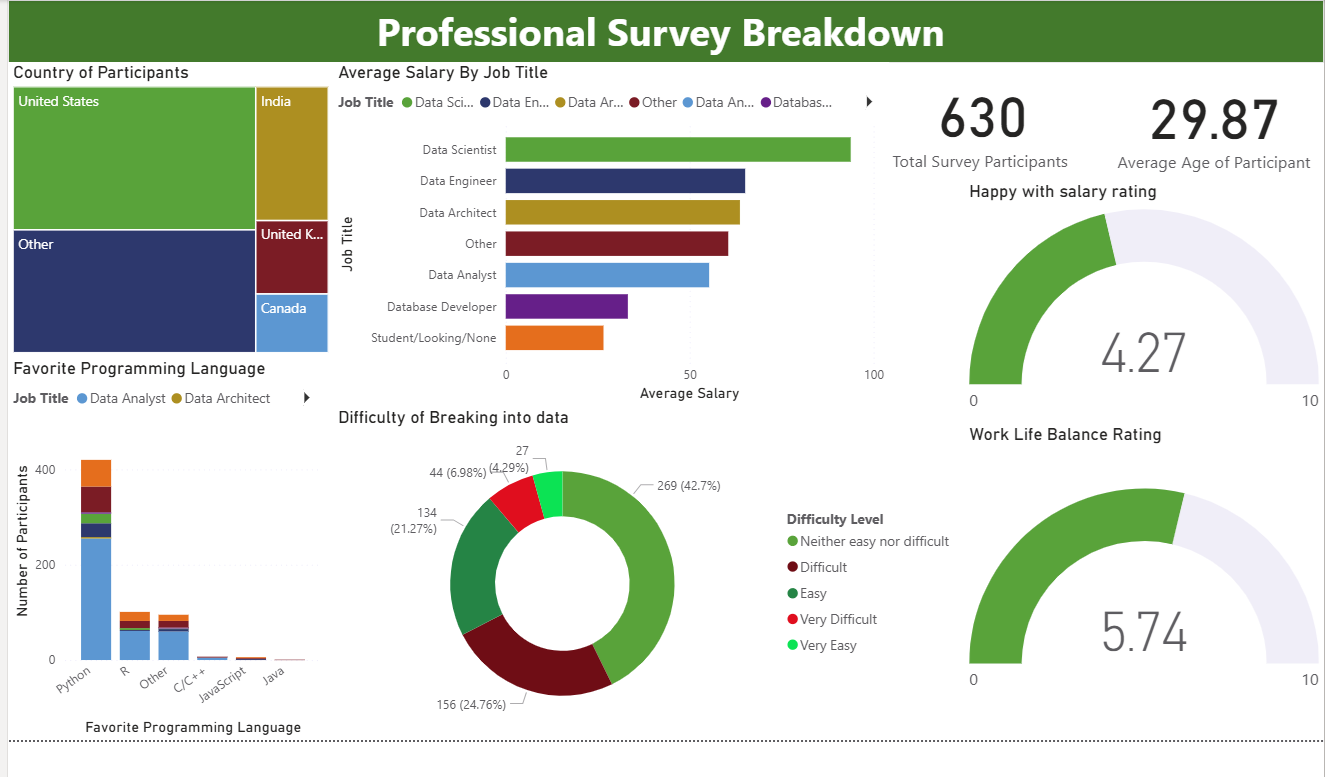

The dashboard page shown, as its layout file describes it:
{"tool":"powerbi","page":{"name":"Page 1","canvas":[1280,720],"ordinal":0},"visuals":[{"type":"textbox","box":[0,0,1280,61],"z":0},{"type":"card","fields":{"Values":["CountNonNull(Data Professional Survey.Unique ID)"]},"box":[849.1,61.3,197.4,113.8],"z":1000},{"type":"card","fields":{"Values":["Avg(Data Professional Survey.Q10 - Current Age)"]},"box":[1065.9,61.9,214.1,114.2],"z":2000},{"type":"barChart","title":"Average Salary By Job Title","fields":{"Category":["Data Professional Survey.Q1 - Which Title Best Fits your Current Role?.1"],"Y":["Avg(Data Professional Survey.Average Salary)"],"Series":["Data Professional Survey.Q1 - Which Title Best Fits your Current Role?.1"]},"box":[316.5,60.5,540.8,335.4],"z":3000},{"type":"columnChart","title":"Favorite Programming Language","fields":{"Category":["Data Professional Survey.Q5 - Favorite Programming Language.1"],"Y":["CountNonNull(Data Professional Survey.Unique ID)"],"Series":["Data Professional Survey.Q1 - Which Title Best Fits your Current Role?.1"]},"box":[0,348.3,309.6,372.1],"z":4000},{"type":"treemap","title":"Country  of Participants ","fields":{"Group":["Data Professional Survey.Country 1"],"Values":["CountNonNull(Data Professional Survey.Country 1)"]},"box":[0,60.5,316.5,287.8],"z":4001},{"type":"gauge","title":"Work Life Balance Rating","fields":{"Y":["Avg(Data Professional Survey.Q6 - How Happy are you in your Current Position with the following? (Work/Life Balance))"],"MinValue":["Min(Data Professional Survey.Q6 - How Happy are you in your Current Position with the following? (Work/Life Balance))"],"MaxValue":["Max(Data Professional Survey.Q6 - How Happy are you in your Current Position with the following? (Work/Life Balance))"]},"box":[929.7,412.8,350.3,307.6],"z":4002},{"type":"gauge","title":"Happy with salary rating","fields":{"Y":["Avg(Data Professional Survey.Q6 - How Happy are you in your Current Position with the following? (Salary))"],"MinValue":["Min(Data Professional Survey.Q6 - How Happy are you in your Current Position with the following? (Salary))"],"MaxValue":["Max(Data Professional Survey.Q6 - How Happy are you in your Current Position with the following? (Salary))1"]},"box":[929.7,175.6,350.3,237.1],"z":4003},{"type":"donutChart","title":"Difficulty of Breaking into data","fields":{"Category":["Data Professional Survey.Q7 - How difficult was it for you to break into Data?"],"Y":["CountNonNull(Data Professional Survey.Q7 - How difficult was it for you to break into Data?)"]},"box":[316.5,395.9,613.2,324.5],"z":4005}]}

Visuals, with their boxes on the page's 1280x720 design canvas (x1, y1, x2, y2). These are canvas units, not pixel positions in the 1325x777 screenshot, which may show the page scaled, cropped or inside an application window:
textbox: (0,0,1280,61)
card - CountNonNull(Data Professional Survey.Unique ID): (849,61,1046,175)
card - Avg(Data Professional Survey.Q10 - Current Age): (1066,62,1280,176)
"Average Salary By Job Title" barChart: (316,60,857,396)
"Favorite Programming Language" columnChart: (0,348,310,720)
"Country  of Participants " treemap: (0,60,316,348)
"Work Life Balance Rating" gauge: (930,413,1280,720)
"Happy with salary rating" gauge: (930,176,1280,413)
"Difficulty of Breaking into data" donutChart: (316,396,930,720)
